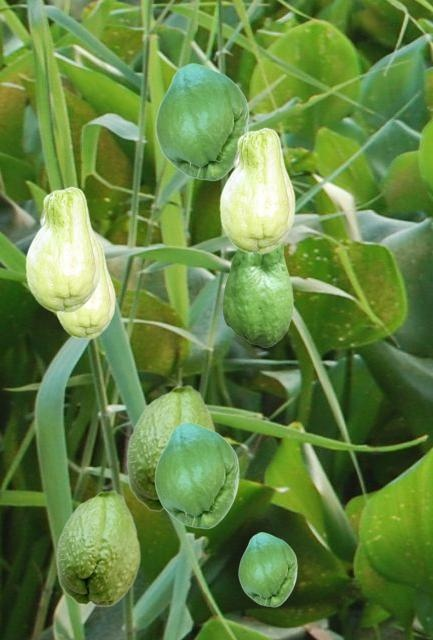sayote: (126, 384, 216, 512), (155, 63, 248, 180), (56, 489, 140, 606), (25, 186, 100, 312), (219, 127, 294, 253), (154, 422, 238, 528), (222, 243, 292, 346), (56, 240, 114, 338), (238, 532, 296, 606)
